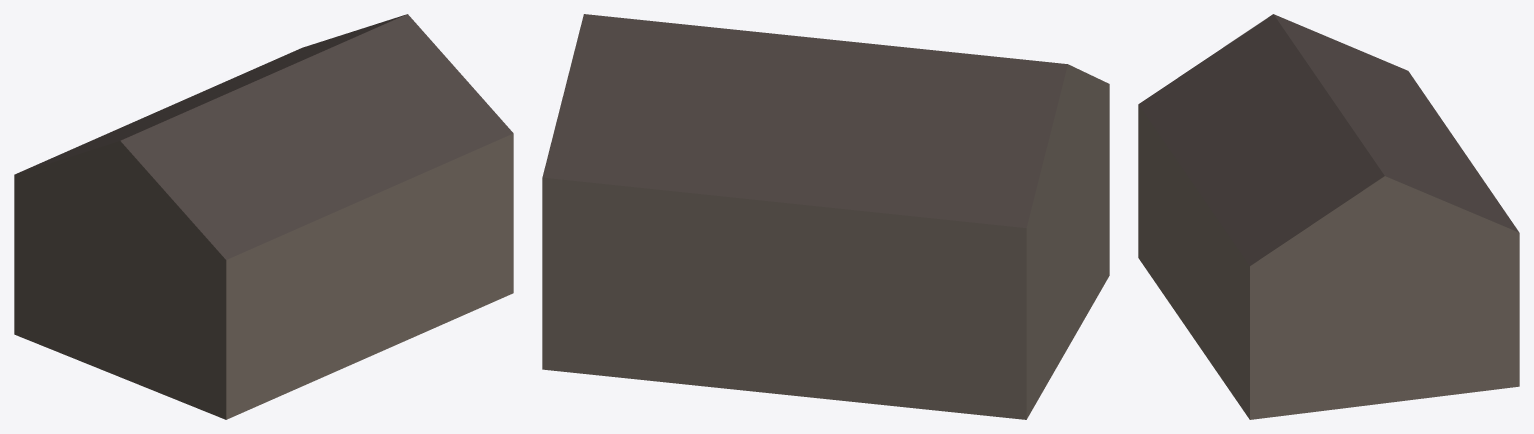
3 renders of one model, left to right at view 1: azimuth 30°, elevation 25°; view 2: azimuth 150°, elevation 25°; view 3: azimuth 270°, elevation 25°, orthographic. The views are drawn at different scales.
Visible parts, largest first — view 1: HP-w1202493214; view 2: HP-w1202493214; view 3: HP-w1202493214.
Part boxes in pixels (x1=…): HP-w1202493214: x1=14, y1=14, x2=513, y2=419; HP-w1202493214: x1=542, y1=14, x2=1109, y2=419; HP-w1202493214: x1=1138, y1=14, x2=1519, y2=419.
Bounding box in the file's own units: 16.37 × 8.88 × 13.49.
